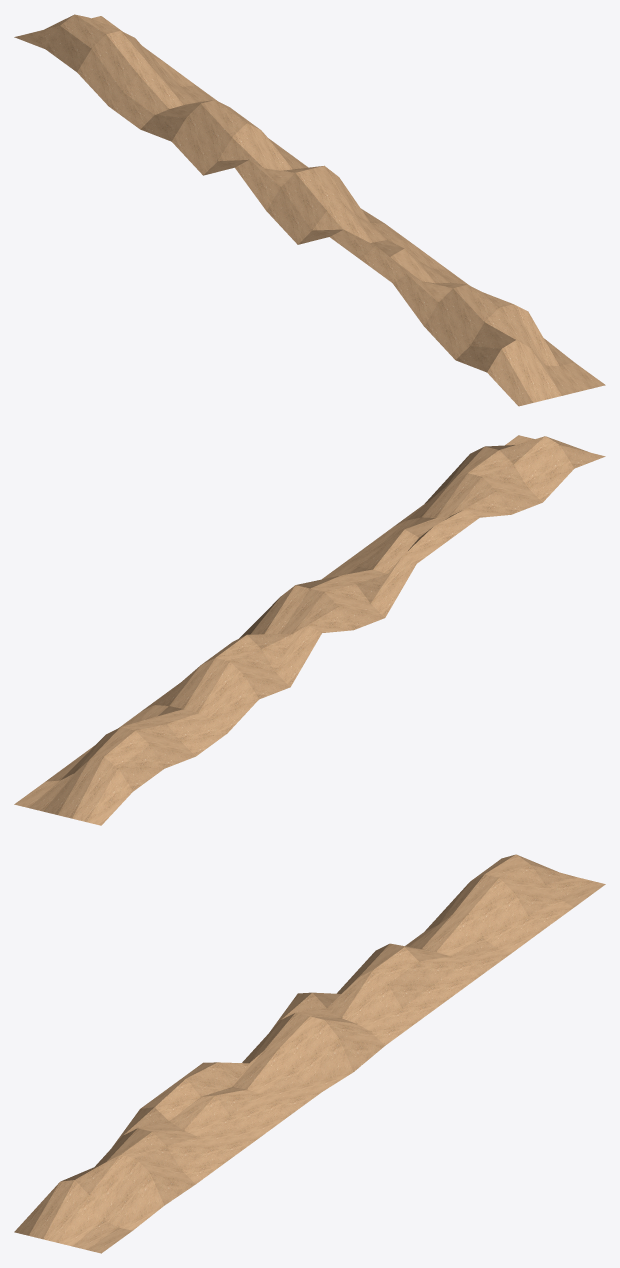
File: Sand Dune.fbx
The picture shows the model from 3 angles, top to bottom: view 1: azimuth 30°, elevation 25°; view 2: azimuth 150°, elevation 25°; view 3: azimuth 330°, elevation 25°; orthographic projection.
Visible parts, largest first — view 1: Sand Dune; view 2: Sand Dune; view 3: Sand Dune.
Part boxes in pixels (bbox=[...]): Sand Dune: bbox=[14, 14, 605, 406]; Sand Dune: bbox=[14, 435, 605, 825]; Sand Dune: bbox=[14, 854, 605, 1253].
Size of the model in its own units: 2 by 0.9896 by 20.
